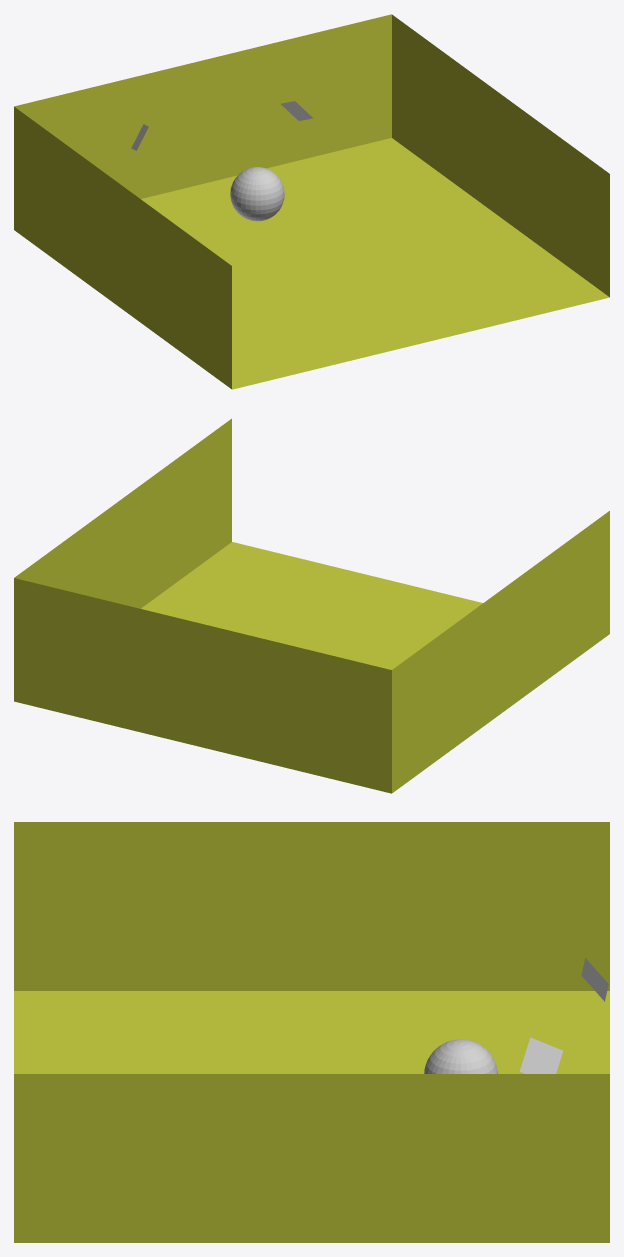
File: double_lights.obj
3 views of the same model, one above another, from view 1: azimuth 30°, elevation 25°; view 2: azimuth 150°, elevation 25°; view 3: azimuth 270°, elevation 25° (orthographic). The views are drawn at different scales.
Visible parts, largest first — view 1: floor, backwall, leftwall, rightwall, Sphere; view 2: backwall, leftwall, floor, rightwall; view 3: rightwall, leftwall, floor, Sphere, light2.
Part boxes in pixels (x1=…): floor: x1=141, y1=138, x2=609, y2=389; backwall: x1=14, y1=14, x2=391, y2=198; leftwall: x1=14, y1=107, x2=231, y2=389; rightwall: x1=392, y1=14, x2=609, y2=296; Sphere: x1=230, y1=167, x2=284, y2=221; backwall: x1=14, y1=578, x2=391, y2=793; leftwall: x1=392, y1=511, x2=609, y2=793; floor: x1=141, y1=542, x2=482, y2=669; rightwall: x1=14, y1=418, x2=231, y2=608; rightwall: x1=14, y1=1074, x2=609, y2=1242; leftwall: x1=14, y1=822, x2=609, y2=990; floor: x1=14, y1=991, x2=609, y2=1073; Sphere: x1=424, y1=1039, x2=497, y2=1073; light2: x1=519, y1=1037, x2=563, y2=1073.
Bounding box in the file's own units: 16 × 5 × 16.
